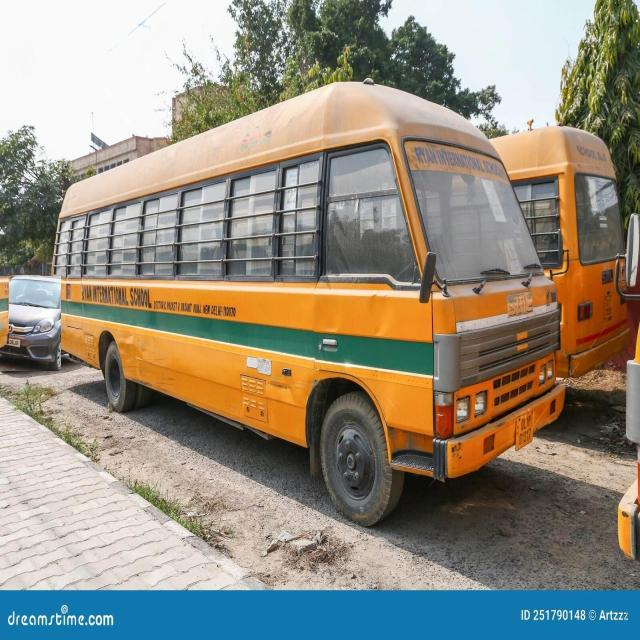bus: (52, 81, 565, 525)
car: (0, 276, 61, 371)
